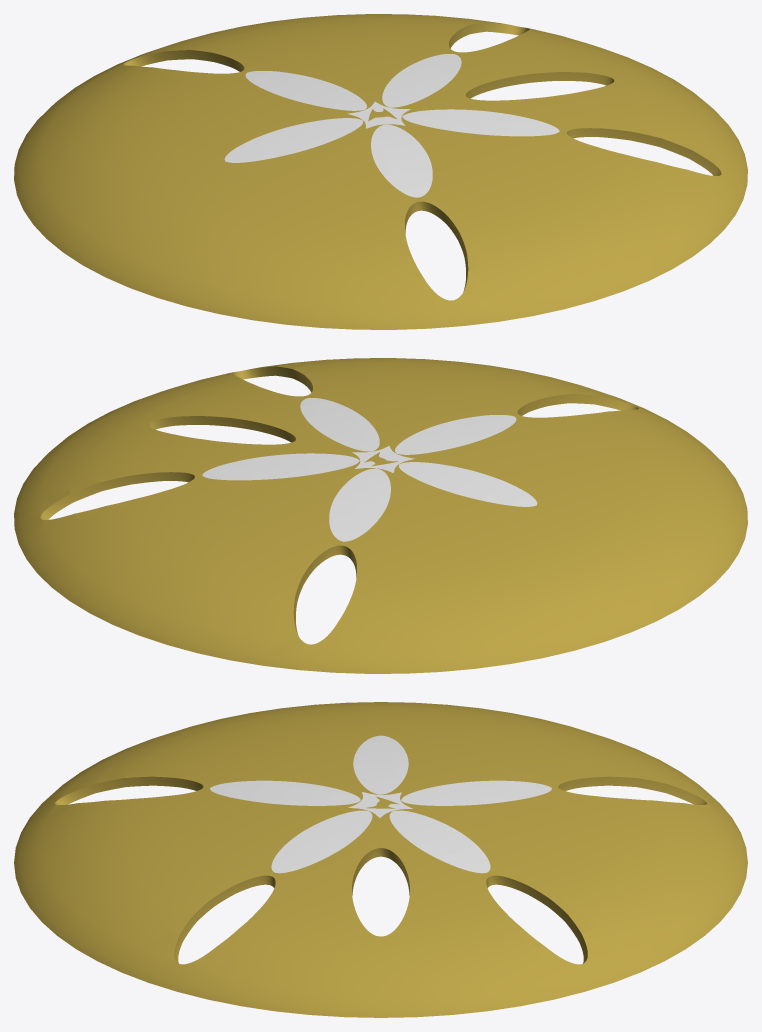
File: GoldDollar.fbx
The picture shows the model from 3 angles, top to bottom: view 1: azimuth 30°, elevation 25°; view 2: azimuth 150°, elevation 25°; view 3: azimuth 270°, elevation 25°; orthographic projection.
Parts seen in each view (by area): view 1: SandDollar.001, Plane.026, Plane.025, Plane.027, Plane.029, Plane.028, Circle.007; view 2: SandDollar.001, Plane.029, Plane.025, Plane.028, Plane.026, Plane.027, Circle.007; view 3: SandDollar.001, Plane.027, Plane.028, Plane.026, Plane.029, Plane.025, Circle.007.
Part boxes in pixels (x1=…): SandDollar.001: x1=14, y1=14, x2=747, y2=329; Plane.026: x1=371, y1=124, x2=432, y2=197; Plane.025: x1=224, y1=118, x2=362, y2=162; Plane.027: x1=402, y1=109, x2=559, y2=136; Plane.029: x1=245, y1=71, x2=366, y2=110; Plane.028: x1=382, y1=54, x2=461, y2=107; Circle.007: x1=347, y1=101, x2=410, y2=128; SandDollar.001: x1=14, y1=358, x2=747, y2=673; Plane.029: x1=329, y1=468, x2=390, y2=541; Plane.025: x1=399, y1=462, x2=537, y2=506; Plane.028: x1=202, y1=453, x2=359, y2=480; Plane.026: x1=395, y1=415, x2=516, y2=454; Plane.027: x1=300, y1=398, x2=379, y2=451; Circle.007: x1=352, y1=446, x2=414, y2=472; SandDollar.001: x1=14, y1=702, x2=747, y2=1017; Plane.027: x1=271, y1=810, x2=372, y2=873; Plane.028: x1=389, y1=810, x2=490, y2=873; Plane.026: x1=210, y1=780, x2=360, y2=805; Plane.029: x1=401, y1=780, x2=551, y2=805; Plane.025: x1=353, y1=735, x2=408, y2=794; Circle.007: x1=348, y1=792, x2=412, y2=817.
Bounding box in the file's own units: 392 × 392 × 34.91.
